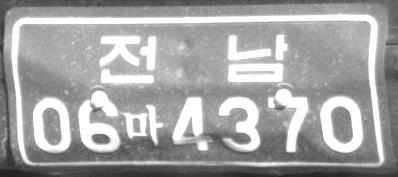0: (319, 94, 364, 153), (31, 96, 71, 154)
3: (218, 95, 261, 153)
4: (171, 95, 212, 151)
6: (77, 96, 121, 154)
7: (267, 94, 309, 154)
마: (121, 103, 163, 147)
전남_D: (98, 32, 288, 84)
